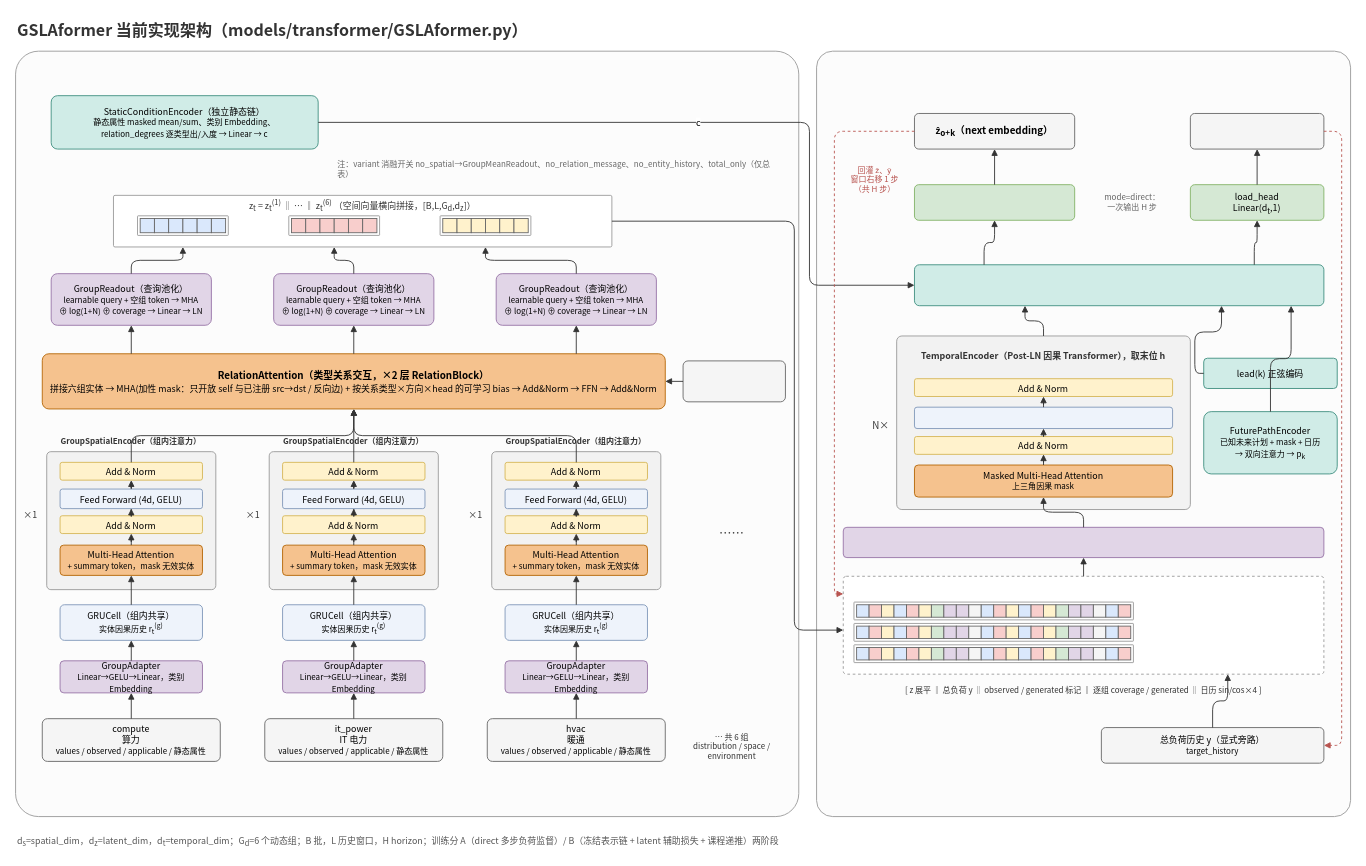
This 1366x866 diagram has some shape labels left out. Here are the shapes that lost their labels. From the top down, the box of each, then its label:
(1189, 113, 1324, 149): ŷ o+k 总负荷
(914, 184, 1075, 220): latent_heads 每组 Linear(d t ,d z )
(914, 264, 1324, 306): ConditionFusion：[ h ‖ c ‖ p k ‖ lead(k) ] → Linear → GELU → Linear
(682, 360, 785, 402): 关系边表 R t relations_history
(15, 50, 799, 817): (a) 空间表示链 encode_history → z_t、c
(914, 406, 1173, 429): Feed Forward (4d t , GELU)
(816, 50, 1351, 817): (b) 系统时间链与双头自由递推 rollout
(842, 526, 1324, 558): Linear → d t ⊕ 窗口内正弦位置编码 ⊕ 日历 Linear
(842, 575, 1324, 674): 窗口 token（时间顺序纵向拼接，长度 L）
